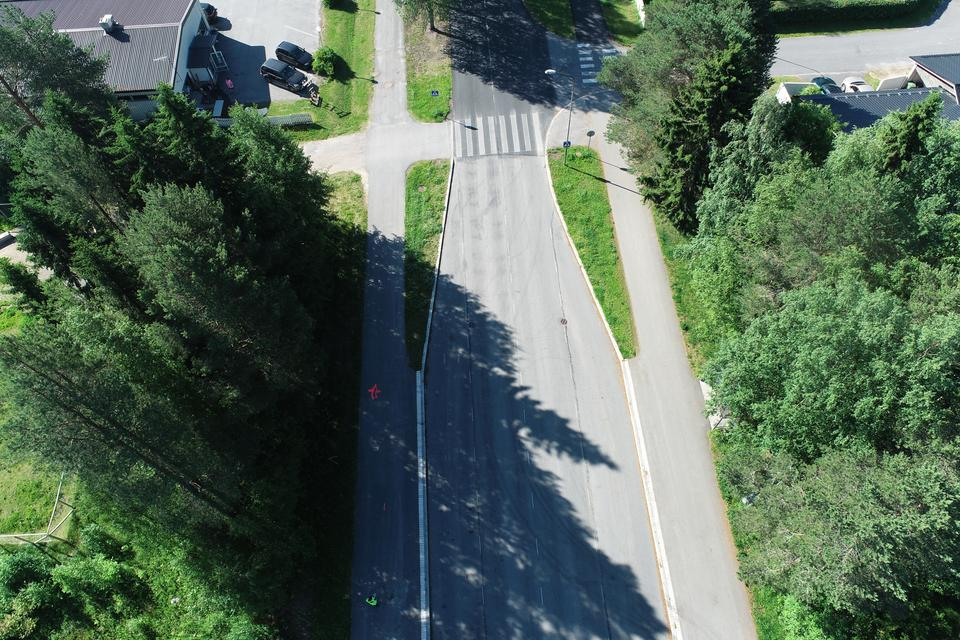intersection: (346, 17, 668, 200)
